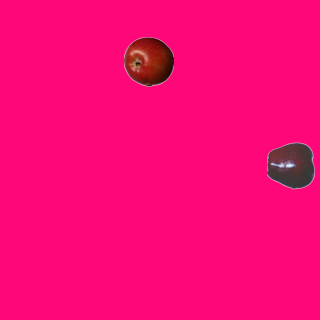Apple Braeburn: (123, 36, 173, 86)
Apple Red Delicious: (266, 140, 316, 190)
